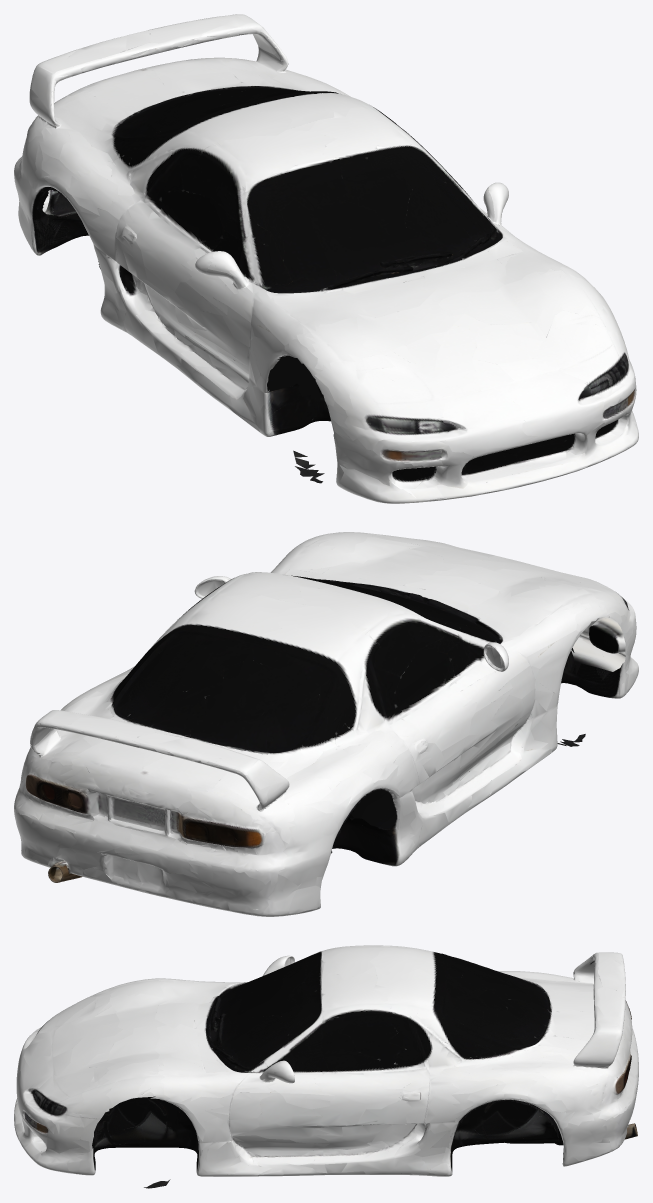
File: rotary.glb
3 renders of one model, top to bottom at view 1: azimuth 30°, elevation 25°; view 2: azimuth 150°, elevation 25°; view 3: azimuth 270°, elevation 25°, orthographic. The views are drawn at different scales.
Visible parts, largest first — view 1: Mesh_0; view 2: Mesh_0; view 3: Mesh_0.
Part boxes in pixels (x1=…): Mesh_0: x1=14, y1=14, x2=638, y2=503; Mesh_0: x1=14, y1=532, x2=638, y2=916; Mesh_0: x1=14, y1=945, x2=638, y2=1188.
Bounding box in the file's own units: 0.4484 × 0.2938 × 1.
Materials: 1 (1 with a texture image).
